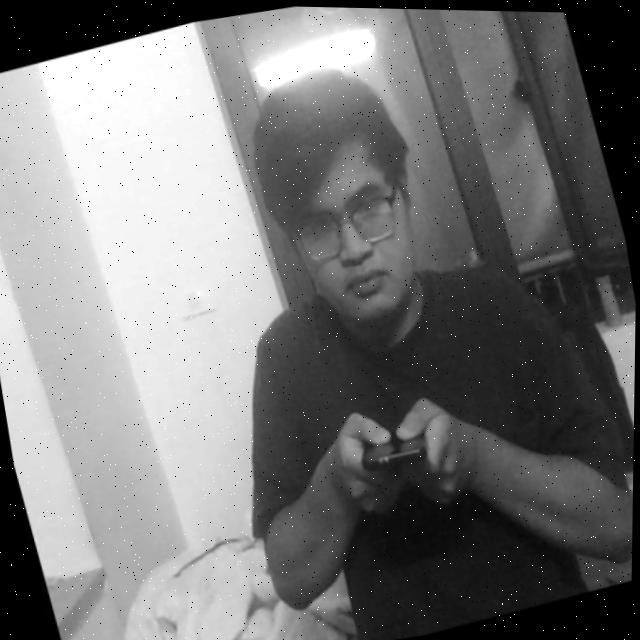phone: (348, 398, 451, 506)
